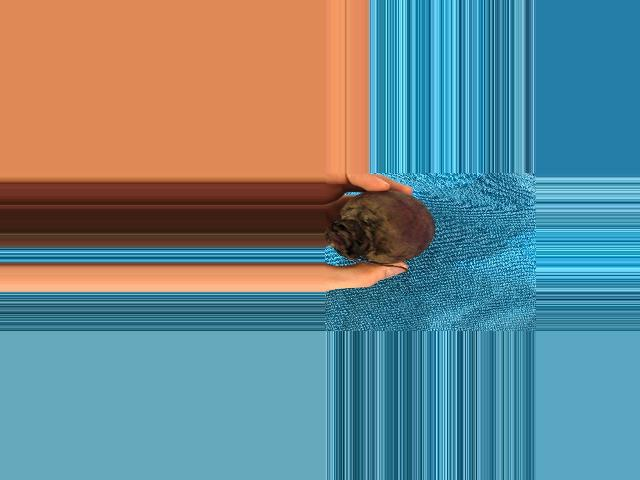beet: (326, 190, 434, 273)
